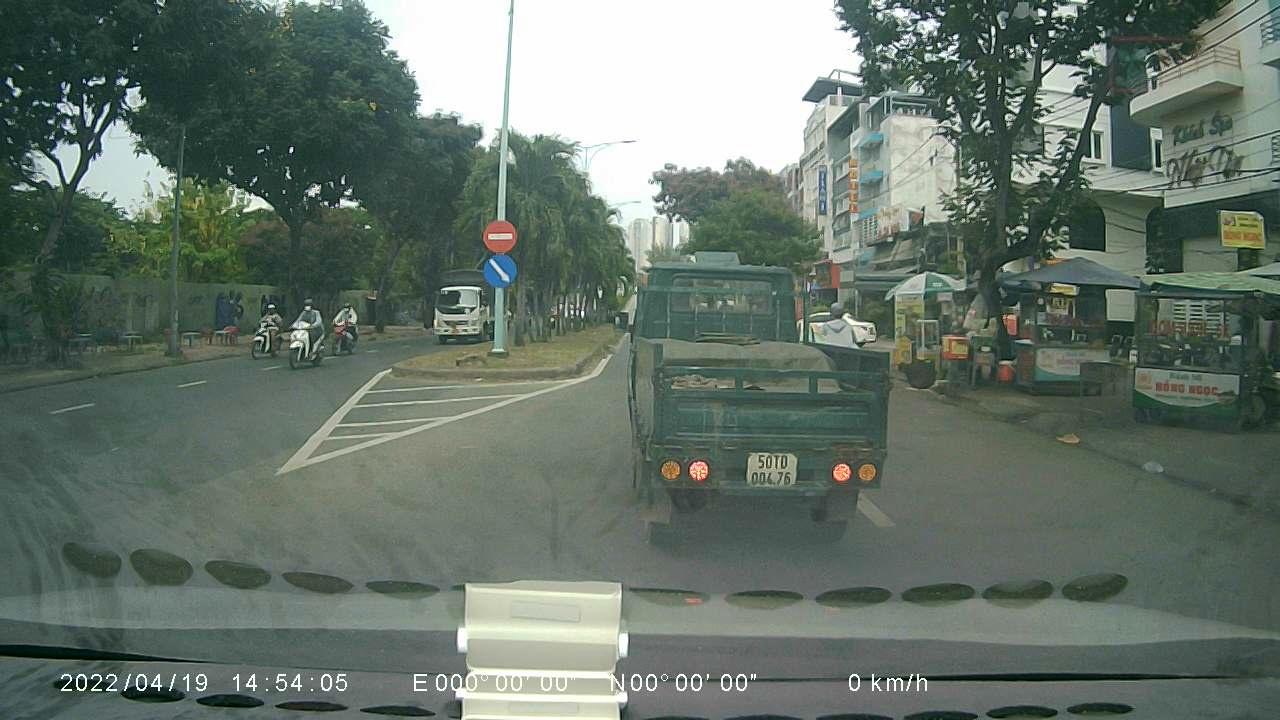Cam di nguoc chieu: (481, 220, 516, 251)
Huong di phai re phai: (482, 256, 516, 290)
